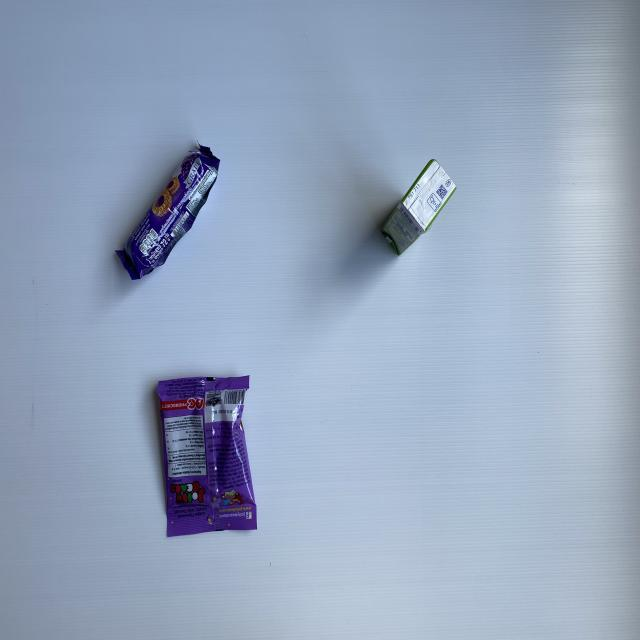candy: (152, 372, 266, 537)
cracker: (115, 138, 226, 288)
milk: (378, 156, 460, 259)
